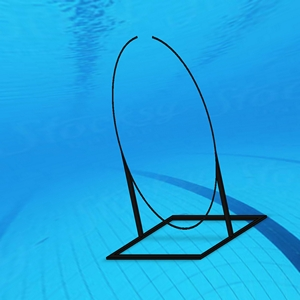circle: (101, 32, 272, 274)
